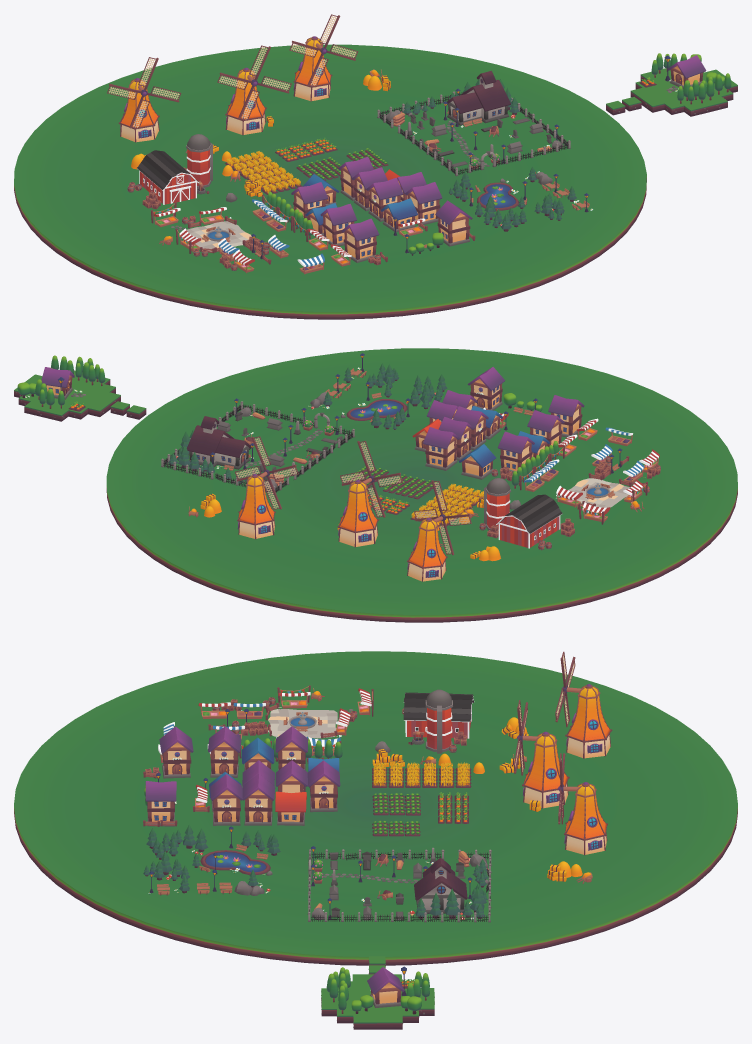
The model's file is field.glb.
3 views of the same model, one above another, from view 1: azimuth 30°, elevation 25°; view 2: azimuth 150°, elevation 25°; view 3: azimuth 270°, elevation 25° (orthographic). The views are drawn at different scales.
Visible parts, largest first — view 1: World, Windmill.002, Windmill.001, Windmill.003, Barn.001, House_Purple.002, House_2Story_Purple.009, Sphere.002, House_2Story_Purple.001, House_2Story_Purple.002, House_2Story_Purple.008, House_2Story_Purple.004 (+7 smaller); view 2: World, Windmill.002, Windmill.003, Windmill.001, Barn.001, House_Purple.002, House_2Story_Purple.006, House_2Story_Purple.001, Sphere.002, House_2Story_Purple.007, House_2Story_Purple.009, Plane.001 (+7 smaller); view 3: World, Windmill.001, Windmill.002, Windmill.003, Barn.001, House_Purple.002, Sphere.002, House_2Story_Purple.009, House_2Story_Purple.003, House_2Story_Purple.002, House_2Story_Purple.006, House_2Story_Purple.008 (+8 smaller).
Boxes of the visible parts, x1,y1,x2,y2 form: World: [14, 44, 646, 319]; Windmill.002: [217, 45, 291, 135]; Windmill.001: [107, 57, 181, 142]; Windmill.003: [289, 14, 358, 101]; Barn.001: [137, 150, 199, 204]; House_Purple.002: [447, 70, 510, 125]; House_2Story_Purple.009: [341, 218, 379, 262]; Sphere.002: [186, 134, 212, 187]; House_2Story_Purple.001: [435, 200, 472, 246]; House_2Story_Purple.002: [405, 182, 442, 224]; House_2Story_Purple.008: [320, 203, 356, 246]; House_2Story_Purple.004: [366, 178, 403, 221]; World: [106, 348, 737, 622]; Windmill.002: [337, 441, 402, 547]; Windmill.003: [235, 436, 298, 539]; Windmill.001: [407, 480, 471, 581]; Barn.001: [496, 494, 562, 548]; House_Purple.002: [186, 416, 251, 469]; House_2Story_Purple.006: [423, 427, 459, 470]; House_2Story_Purple.001: [467, 367, 505, 410]; Sphere.002: [484, 478, 511, 530]; House_2Story_Purple.007: [497, 431, 534, 473]; House_2Story_Purple.009: [548, 395, 584, 437]; Plane.001: [568, 478, 629, 507]; World: [14, 651, 737, 965]; Windmill.001: [555, 651, 612, 758]; Windmill.002: [513, 700, 569, 808]; Windmill.003: [558, 753, 607, 855]; Barn.001: [403, 692, 474, 738]; House_Purple.002: [414, 858, 467, 913]; Sphere.002: [425, 689, 452, 753]; House_2Story_Purple.009: [159, 726, 193, 778]; House_2Story_Purple.003: [242, 774, 275, 825]; House_2Story_Purple.002: [210, 774, 242, 825]; House_2Story_Purple.006: [307, 760, 340, 812]; House_2Story_Purple.008: [208, 726, 241, 777].
Size of the model in its own units: 54.23 by 7.39 by 44.26.
1 material, 1 textured.
